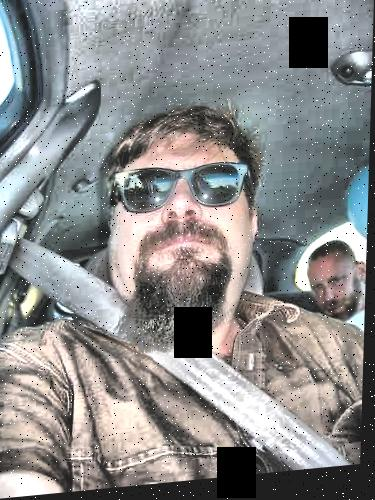seatbelt: (17, 211, 321, 485)
